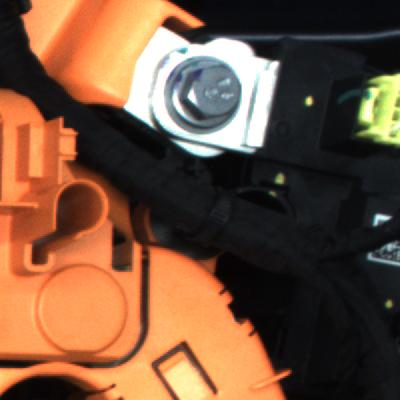nut_b: (163, 48, 272, 141)
